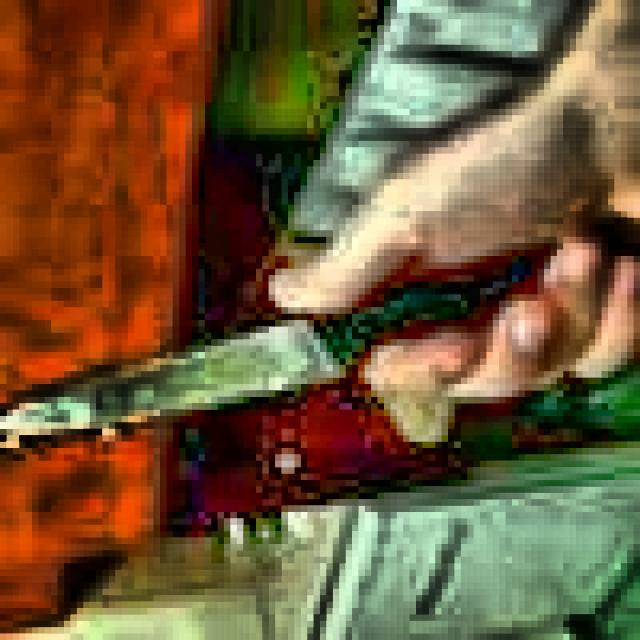knife: (7, 232, 634, 442)
